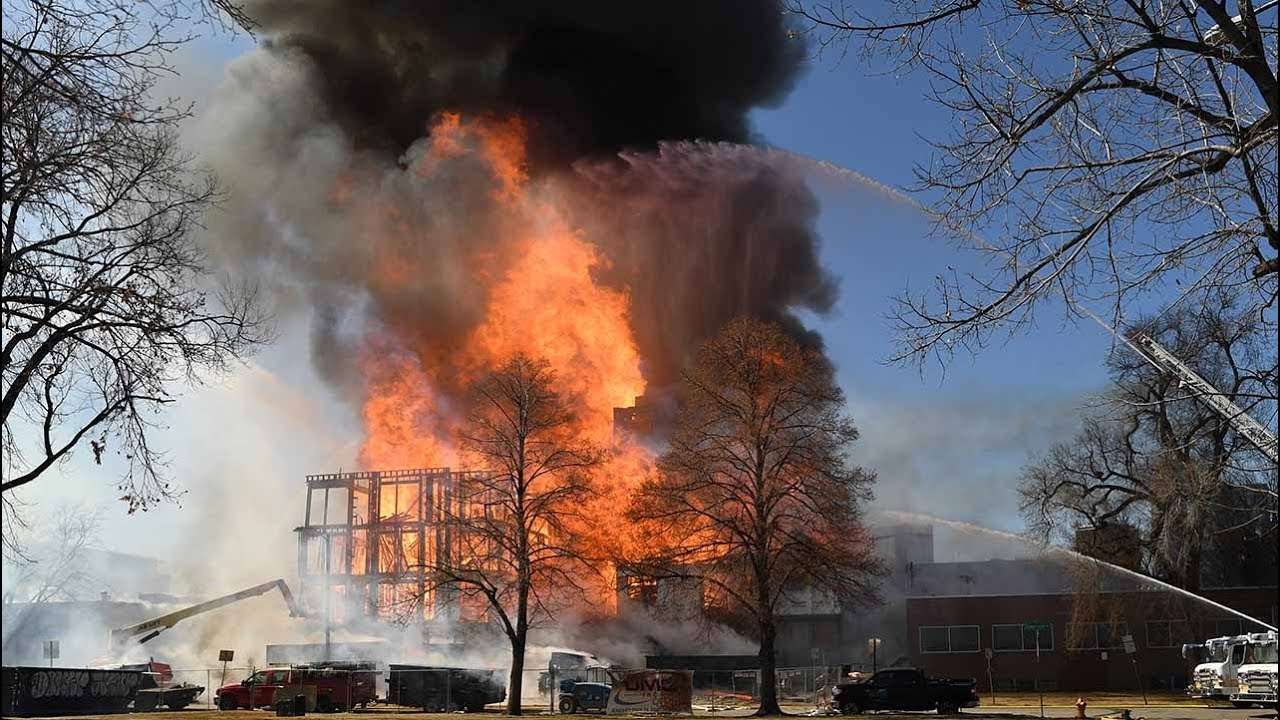Fire: (478, 218, 649, 398), (308, 126, 412, 316), (559, 429, 675, 567), (367, 369, 469, 471), (421, 102, 540, 187)
